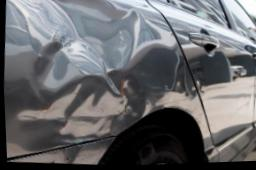Fender: (12, 9, 189, 156)
